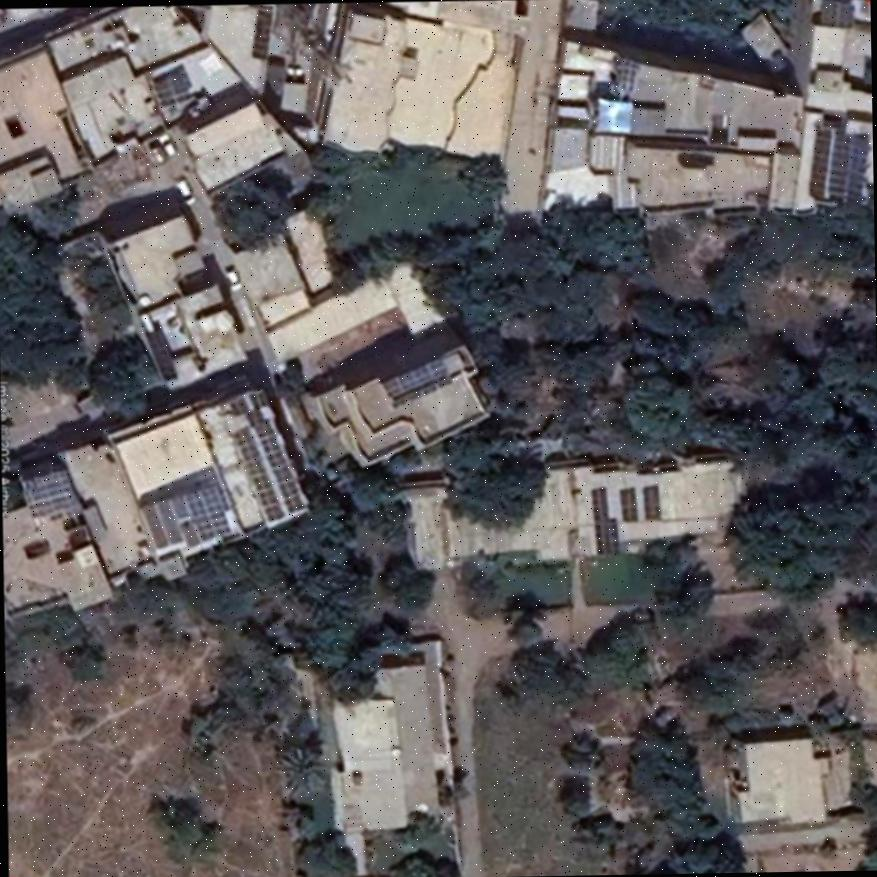Solarpanel: (255, 420, 303, 513), (234, 426, 283, 517), (381, 359, 447, 403), (829, 131, 868, 200), (22, 468, 74, 516), (187, 486, 228, 538), (592, 488, 617, 557), (809, 128, 832, 197), (252, 4, 272, 57), (821, 0, 852, 27), (617, 59, 637, 88), (621, 488, 637, 520), (644, 487, 659, 517)
